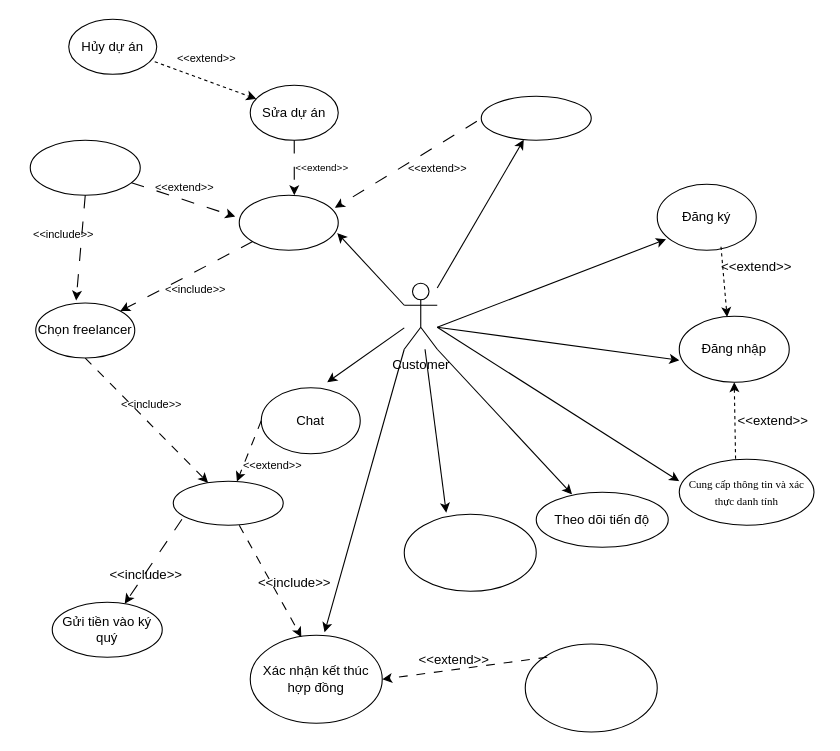
This 840x751 diagram has some shape labels left out. The centre of each missing label's shape, as x and y in pixels:
"Giải ngân" belongs at (x=469, y=552).
"Tìm kiếm freelance" belongs at (x=535, y=117).
"Tạo auction" belongs at (x=84, y=167).
"Tạo dự án" belongs at (x=288, y=222).
"Tạo hợp đồng" belongs at (x=227, y=502).
"Đánh giá freelancer" belongs at (x=590, y=687).
